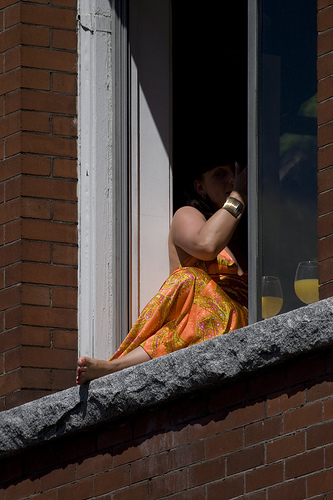without_mask: (198, 154, 248, 213)
